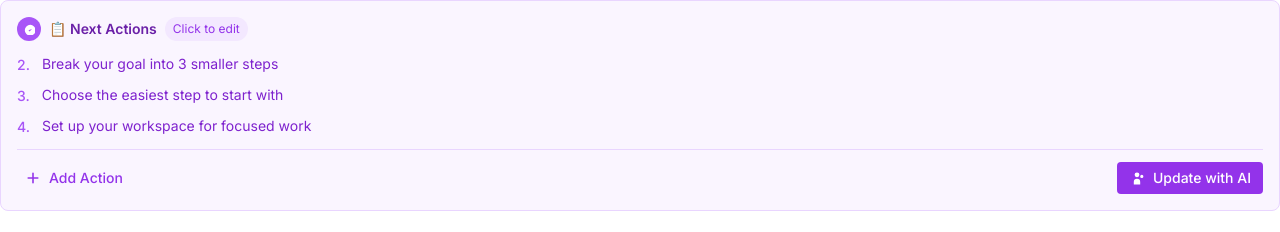
Test: EditableNextActions Integration › displays time estimates after AI estimation
Click the button "Update with AI" at (1190, 178), box [1117,162,1263,194]
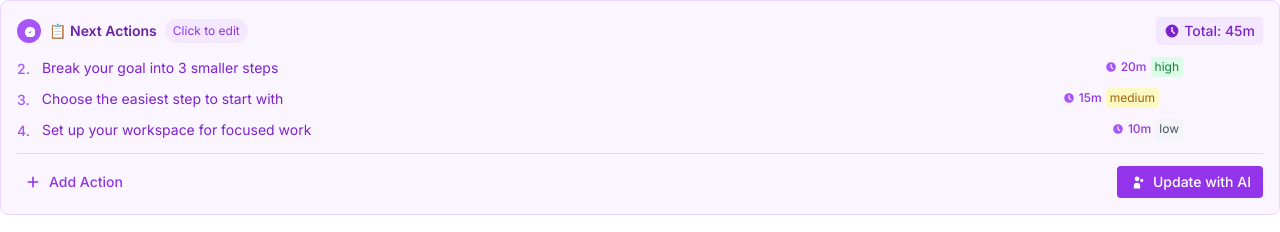
Result: the text "20m" is shown at [1121,59,1146,75]
Result: the text "15m" is shown at [1079,90,1102,106]
Result: the text "10m" is shown at [1128,120,1151,136]
